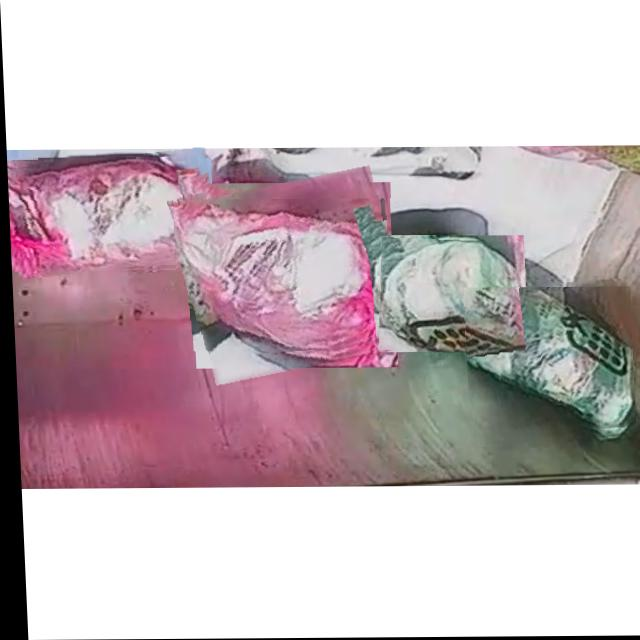general_trashbag: (464, 289, 630, 430), (377, 239, 524, 352)
other_trashbag: (172, 200, 392, 351), (6, 158, 206, 272)
